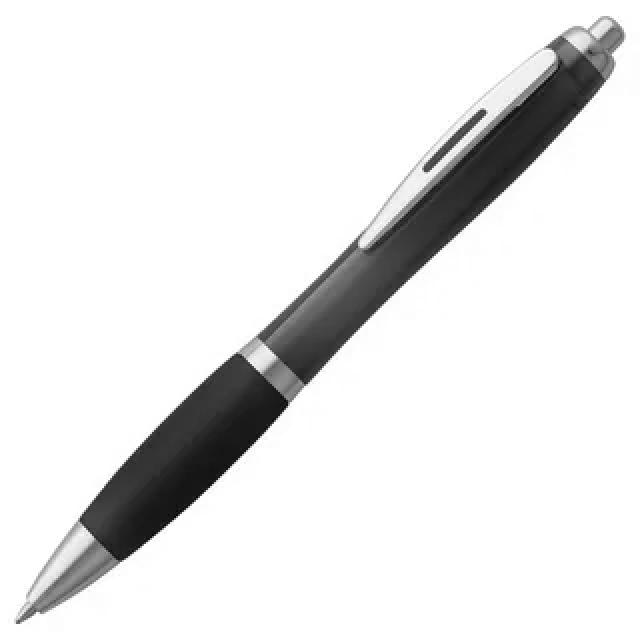pen: (14, 16, 628, 623)
